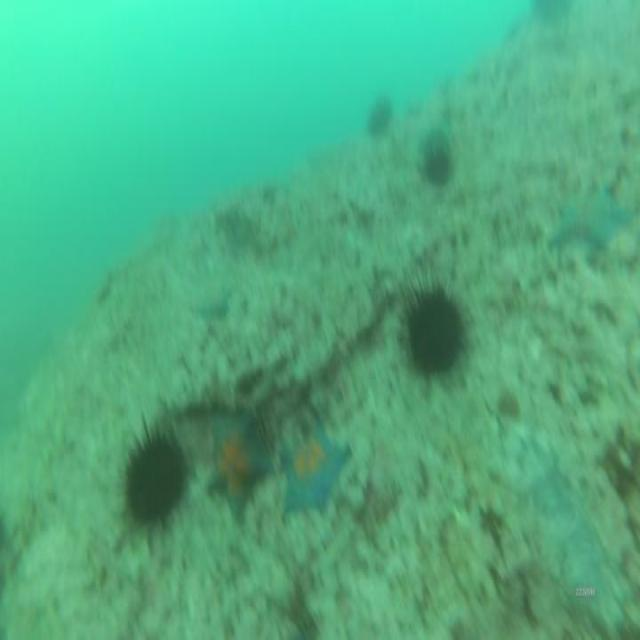echinus: (392, 270, 476, 386), (119, 417, 189, 537), (416, 141, 456, 191), (366, 91, 396, 140), (530, 0, 577, 30)
starfish: (278, 414, 353, 528), (203, 411, 273, 529), (543, 179, 637, 256), (194, 282, 232, 322)
